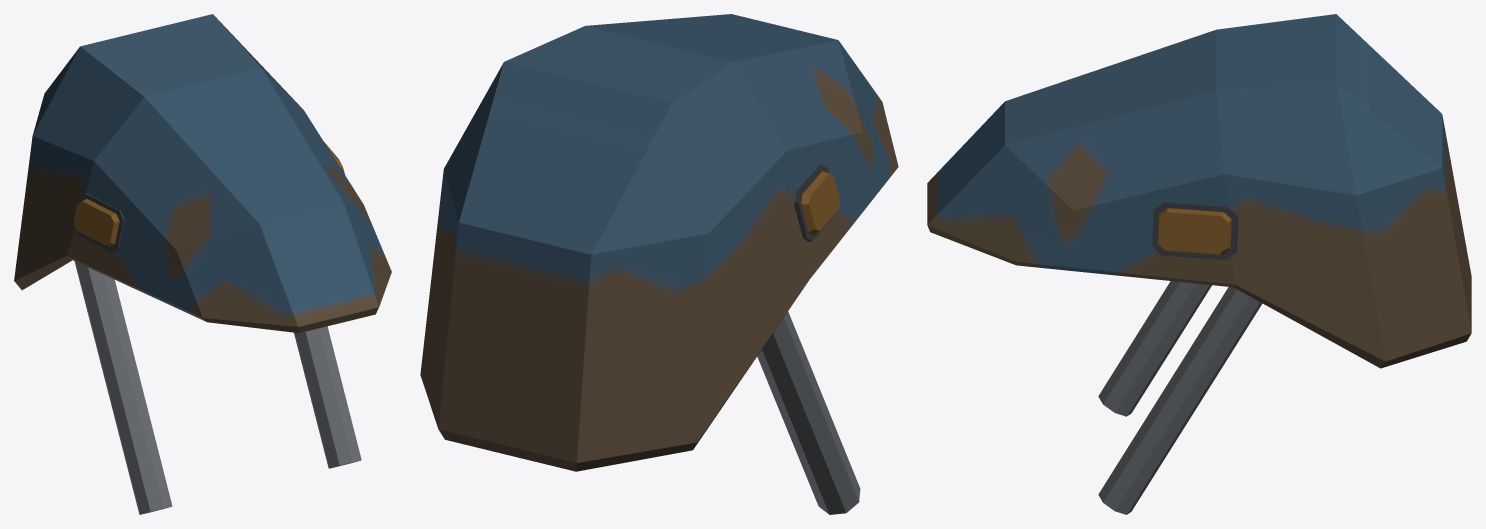
The model's file is SM_Veh_Moped_FrontWheel_Cover_01.obj.
The picture shows the model from 3 angles, left to right: view 1: azimuth 30°, elevation 25°; view 2: azimuth 150°, elevation 25°; view 3: azimuth 270°, elevation 25°; orthographic projection. The views are drawn at different scales.
Visible parts, largest first — view 1: SM_Veh_Moped_FrontWheel_Cover_01_0; view 2: SM_Veh_Moped_FrontWheel_Cover_01_0; view 3: SM_Veh_Moped_FrontWheel_Cover_01_0.
Boxes of the visible parts, x1,y1,x2,y2 form: SM_Veh_Moped_FrontWheel_Cover_01_0: (14, 14, 391, 514); SM_Veh_Moped_FrontWheel_Cover_01_0: (420, 14, 898, 514); SM_Veh_Moped_FrontWheel_Cover_01_0: (927, 14, 1471, 514).
Bounding box in the file's own units: 0.2795 × 0.406 × 0.4836.
Materials: 1 (1 with a texture image).
